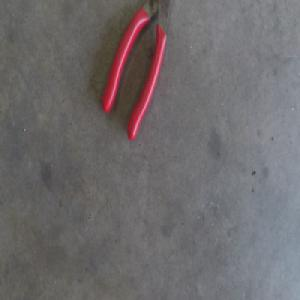Pliers: (101, 0, 171, 141)
